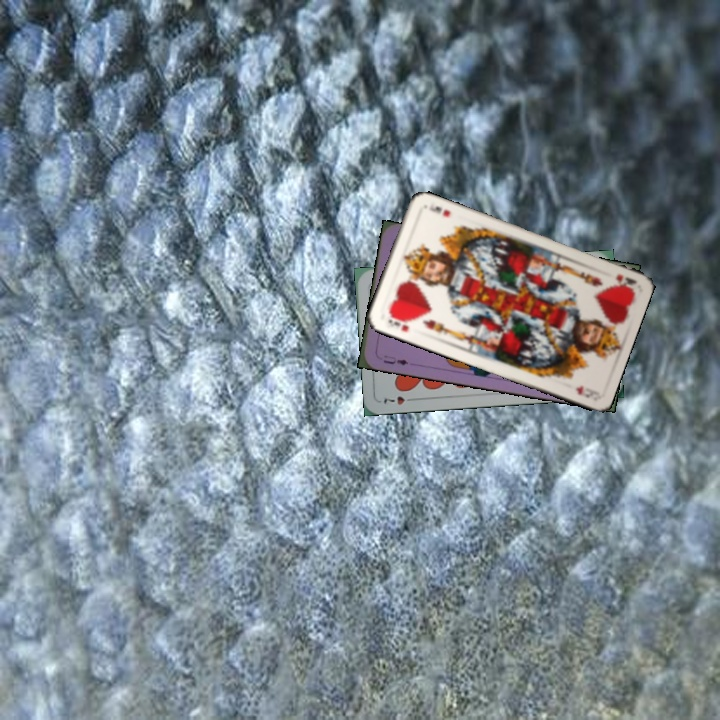EU: (379, 351, 411, 368)
H7: (379, 392, 419, 407)
HK: (384, 311, 415, 334), (612, 270, 639, 291)
